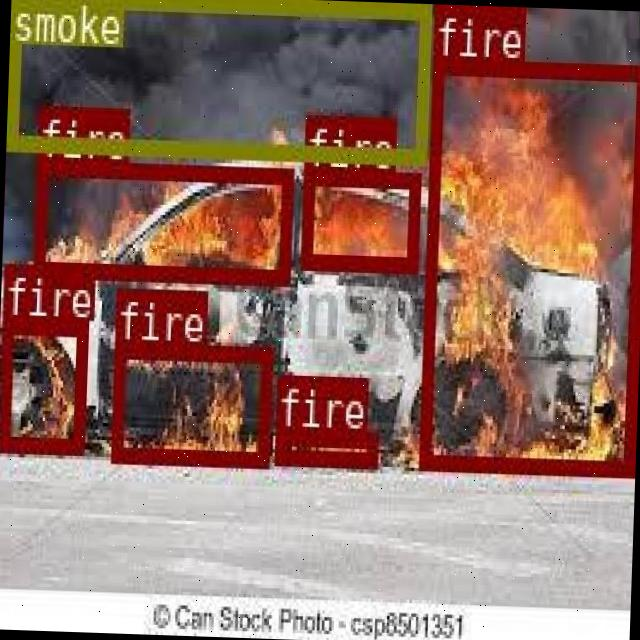fire: (417, 55, 640, 472), (32, 156, 290, 282), (110, 339, 270, 464), (300, 165, 418, 268), (0, 316, 84, 451), (272, 428, 376, 466)
smoke: (6, 0, 430, 160)
